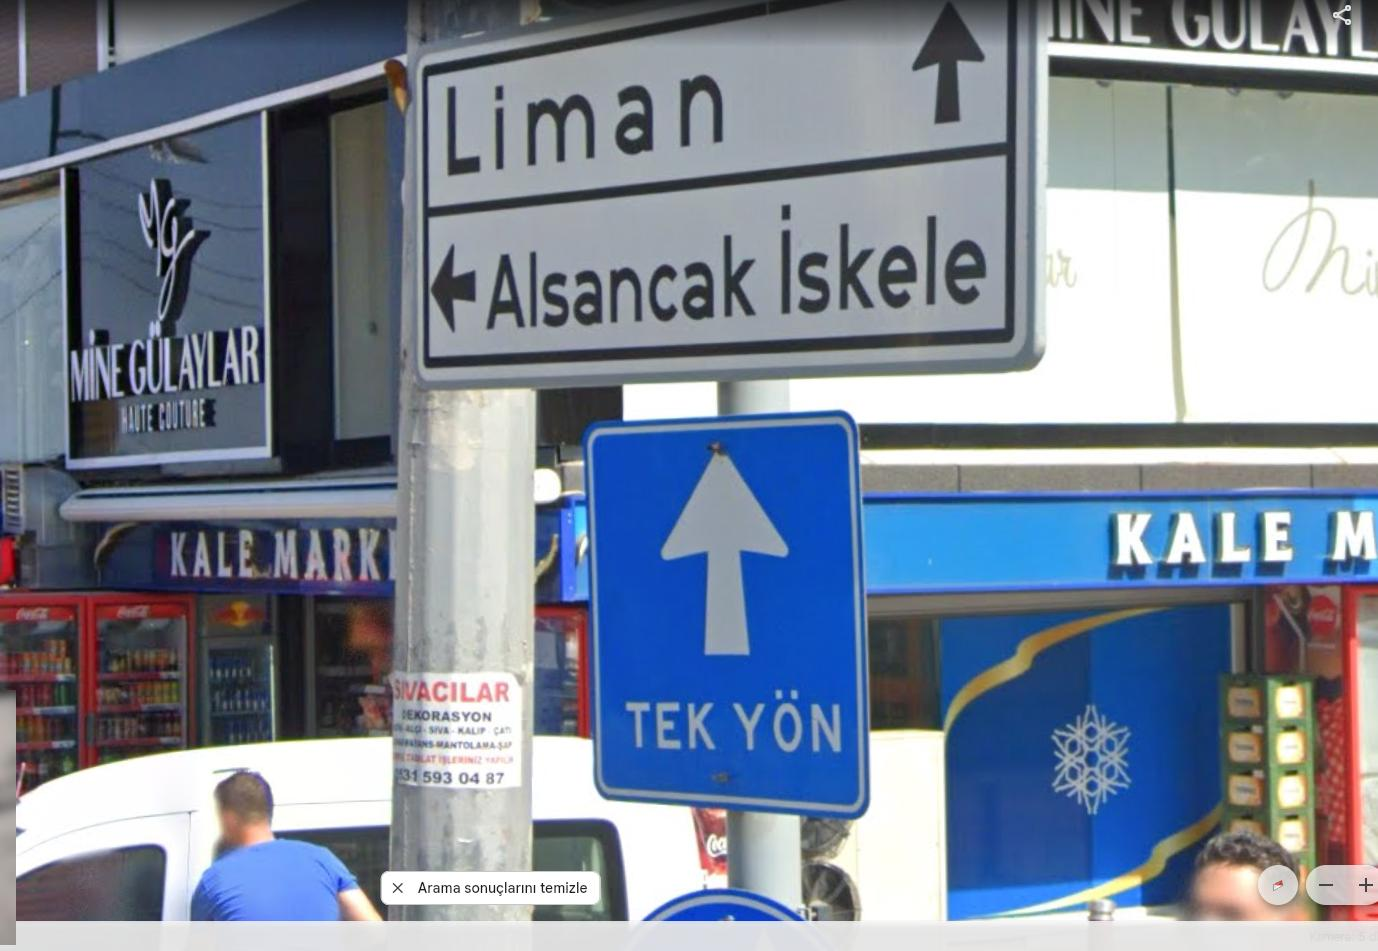forward: (595, 424, 854, 695)
